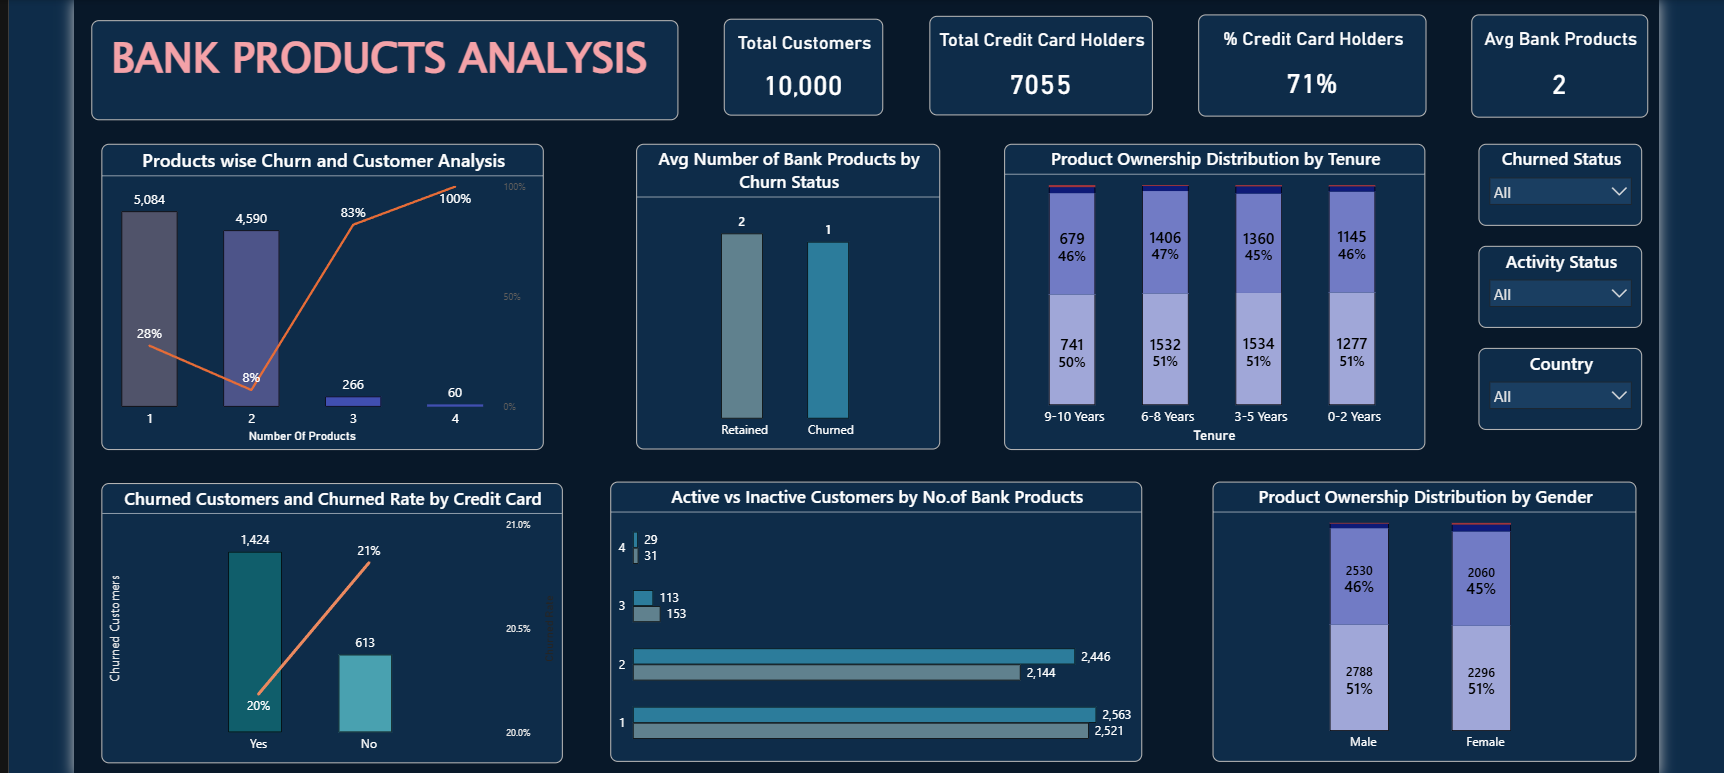

The page's visual inventory and layout, read from the dashboard file:
{"tool":"powerbi","page":{"name":"Bank Products Analysis","canvas":[2080,1020],"ordinal":3},"visuals":[{"type":"textbox","box":[22,26,770.8,131.8],"z":0},{"type":"slicer","title":"Churned Status","fields":{"Values":["Bank_Churn_01.churned_status"]},"box":[1843.5,188.7,215.1,107.6],"z":1000},{"type":"slicer","title":"Activity Status","fields":{"Values":["Bank_Churn_01.activity_status"]},"box":[1843.5,322.7,215.1,107.6],"z":2000},{"type":"slicer","title":"Country","fields":{"Values":["Bank_Churn_01.country"]},"box":[1843.5,456.6,215.1,107.6],"z":3000},{"type":"card","title":"% Credit Card Holders","fields":{"Values":["Measuress.% credit card holders"]},"box":[1474.8,18.9,300,134],"z":4000},{"type":"card","title":"Total Credit Card Holders","fields":{"Values":["Measuress.Credit Card Holders"]},"box":[1121.9,21.5,293.5,131.1],"z":5000},{"type":"card","title":"Total Customers","fields":{"Values":["Measuress.Total Customers"]},"box":[853.2,25.4,209.4,127.2],"z":6000},{"type":"card","title":"Avg Bank Products","fields":{"Values":["Measuress.AVG Bank Products"]},"box":[1834.1,18.9,232.1,135.9],"z":7000},{"type":"lineStackedColumnComboChart","fields":{"Category":["Bank_Churn_01.credit_card"],"Y":["Measuress.Churned Customers"],"Y2":["Measuress.Churned Rate"]},"box":[35.9,634,605.7,368],"z":8000},{"type":"lineStackedColumnComboChart","title":"Products wise Churn and Customer Analysis","fields":{"Category":["Bank_Churn_01.number_of_bank_products"],"Y":["Measuress.Total Customers"],"Y2":["Measuress.Churned Rate"]},"box":[35.9,188.7,581.2,401.9],"z":9000},{"type":"hundredPercentStackedColumnChart","title":"Product Ownership Distribution by Tenure","fields":{"Category":["Bank_Churn_01.Tenure Bucket"],"Series":["Bank_Churn_01.number_of_bank_products"],"Y":["CountNonNull(Bank_Churn_01.customer_id)"]},"box":[1220.8,188.7,552.9,401.9],"z":10000},{"type":"clusteredBarChart","title":"Active vs Inactive Customers by No.of Bank Products","fields":{"Category":["Bank_Churn_01.number_of_bank_products"],"Y":["Measuress.Total Customers"],"Series":["Bank_Churn_01.activity_status"]},"box":[703.8,632.1,698.2,368],"z":11000},{"type":"columnChart","title":"Avg Number of Bank Products by Churn Status","fields":{"Category":["Bank_Churn_01.churned_status"],"Y":["Measuress.AVG Bank Products"]},"box":[738.3,189.2,399.1,401.4],"z":13000},{"type":"hundredPercentStackedColumnChart","title":"Product Ownership Distribution by Gender ","fields":{"Category":["Bank_Churn_01.gender"],"Y":["CountNonNull(Bank_Churn_01.customer_id)"],"Series":["Bank_Churn_01.number_of_bank_products"]},"box":[1494.4,632.1,556.6,368],"z":14000}]}

Visuals, with their boxes on the page's 2080x1020 design canvas (x1, y1, x2, y2). These are canvas units, not pixel positions in the 1724x773 screenshot, which may show the page scaled, cropped or inside an application window:
textbox: x1=22 y1=26 x2=793 y2=158
"Churned Status" slicer: x1=1844 y1=189 x2=2059 y2=296
"Activity Status" slicer: x1=1844 y1=323 x2=2059 y2=430
"Country" slicer: x1=1844 y1=457 x2=2059 y2=564
"% Credit Card Holders" card: x1=1475 y1=19 x2=1775 y2=153
"Total Credit Card Holders" card: x1=1122 y1=22 x2=1415 y2=153
"Total Customers" card: x1=853 y1=25 x2=1063 y2=153
"Avg Bank Products" card: x1=1834 y1=19 x2=2066 y2=155
lineStackedColumnComboChart - Bank_Churn_01.credit_card x Measuress.Churned Customers: x1=36 y1=634 x2=642 y2=1002
"Products wise Churn and Customer Analysis" lineStackedColumnComboChart: x1=36 y1=189 x2=617 y2=591
"Product Ownership Distribution by Tenure" hundredPercentStackedColumnChart: x1=1221 y1=189 x2=1774 y2=591
"Active vs Inactive Customers by No.of Bank Products" clusteredBarChart: x1=704 y1=632 x2=1402 y2=1000
"Avg Number of Bank Products by Churn Status" columnChart: x1=738 y1=189 x2=1137 y2=591
"Product Ownership Distribution by Gender " hundredPercentStackedColumnChart: x1=1494 y1=632 x2=2051 y2=1000
